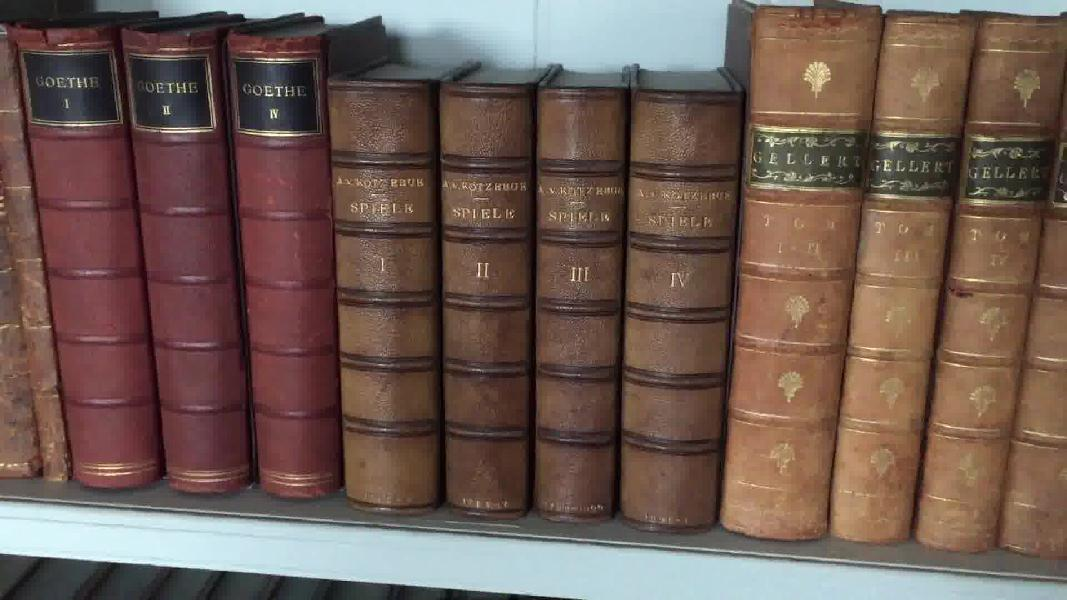Aa6-11_13: (2, 12, 362, 502)
Aa6-14_17: (325, 62, 744, 540)
Aa6-18_23: (742, 1, 1067, 561)
